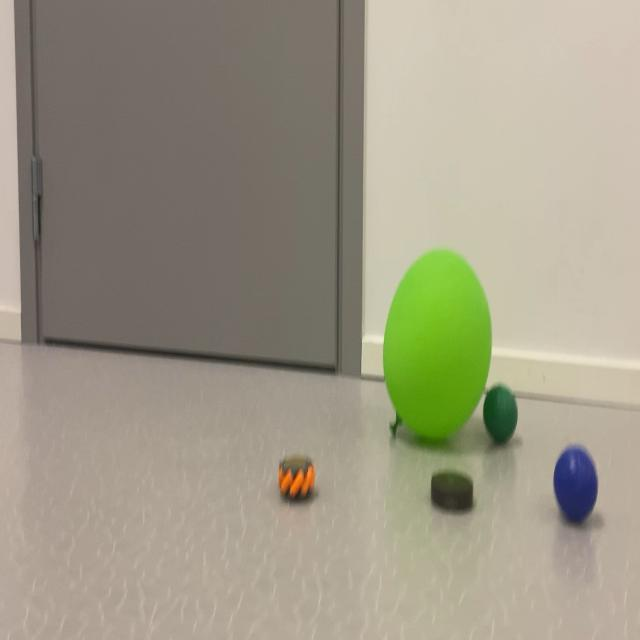green ball: (550, 436, 606, 547)
red ball: (483, 380, 523, 463)
